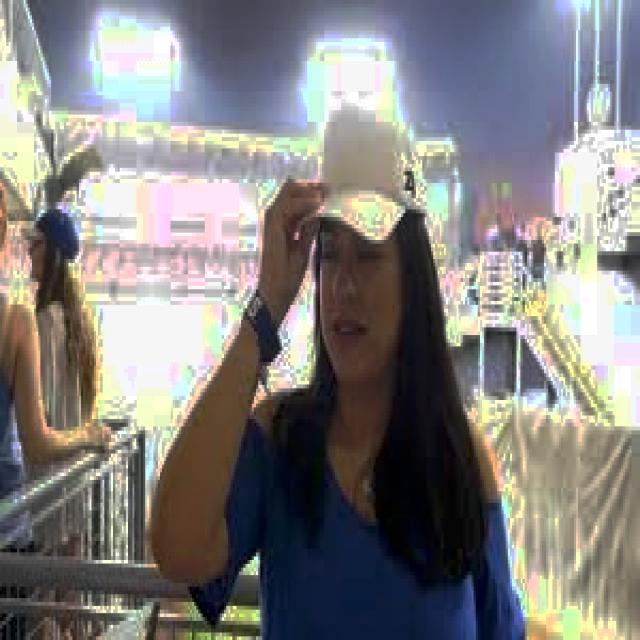TOPI: (292, 107, 434, 260)
